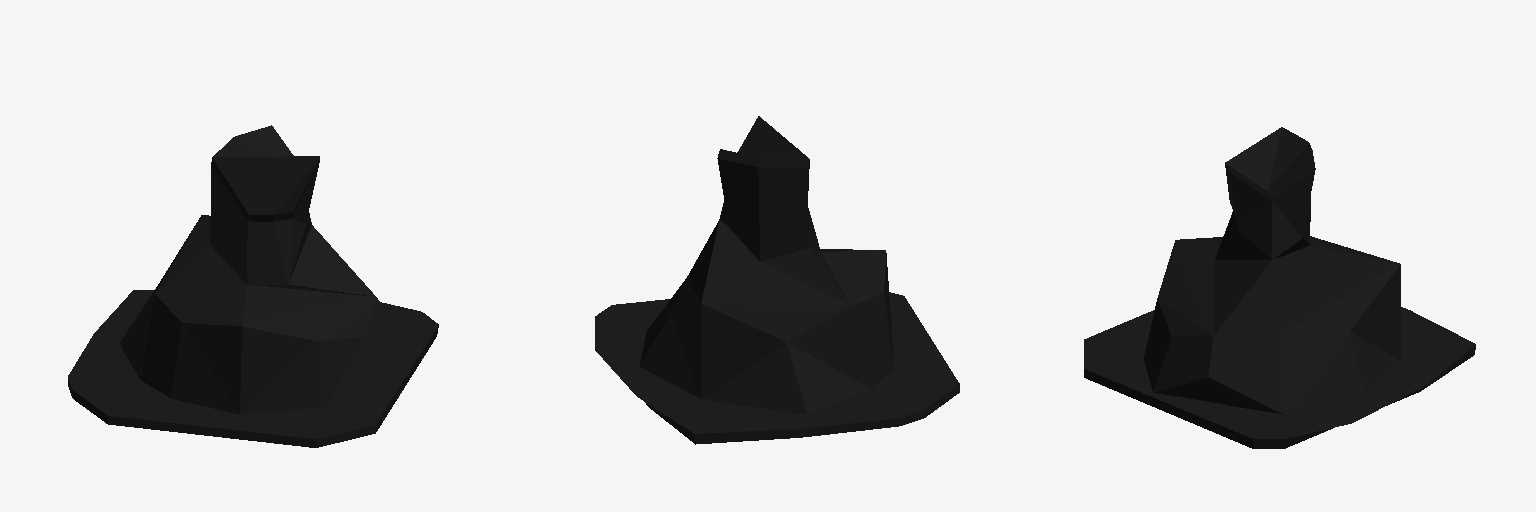
The model's file is rocher.obj.
The picture shows the model from 3 angles: view 1: azimuth 30°, elevation 25°; view 2: azimuth 150°, elevation 25°; view 3: azimuth 270°, elevation 25°; orthographic projection.
Visible parts, largest first — view 1: Cube_Rocher; view 2: Cube_Rocher; view 3: Cube_Rocher.
Part boxes in pixels (left/top/right/bottom): Cube_Rocher: left=68, top=125, right=438, bottom=447; Cube_Rocher: left=595, top=116, right=959, bottom=444; Cube_Rocher: left=1084, top=127, right=1475, bottom=448.
Bounding box in the file's own units: 4 × 2.5 × 4.